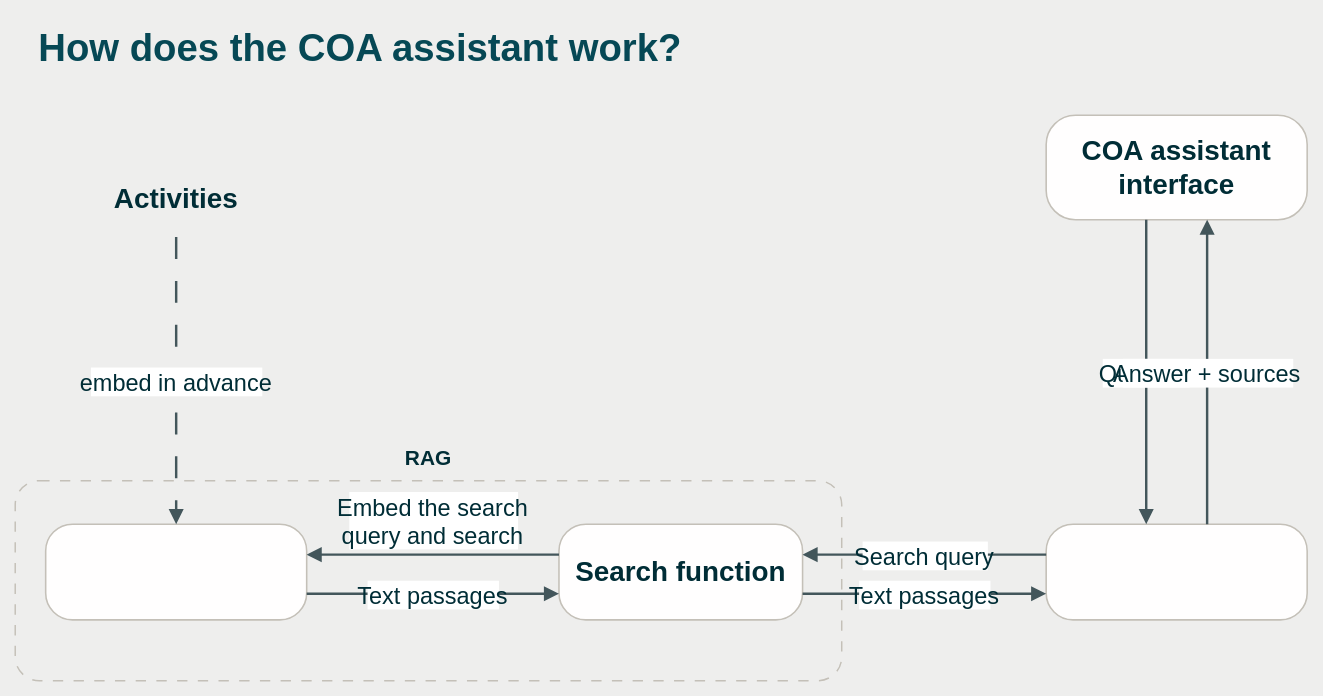
Image size: 1323x696. Some labels were removed from this diagram. The shapes that lost their labels are listed below. From the top down, each one's centre as x and y in pixels, then its label:
At (x=175, y=571): "Database".
At (x=1176, y=571): "The brain: LLM".
